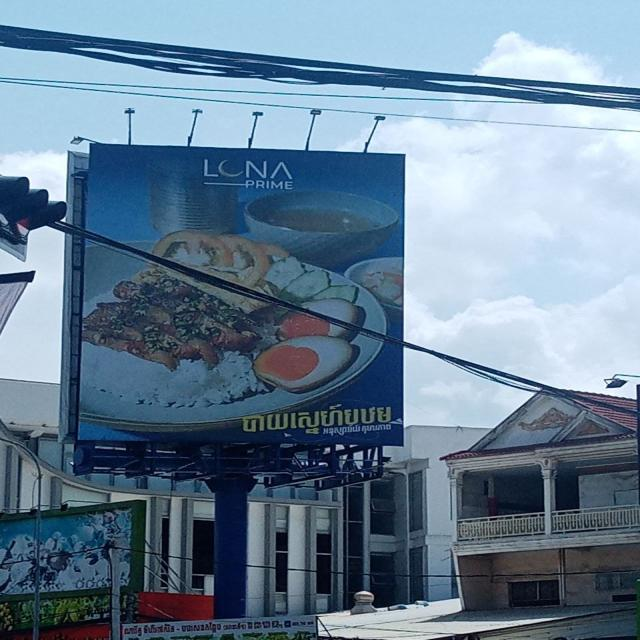Yolov11_80vkh: (213, 390, 400, 440)
